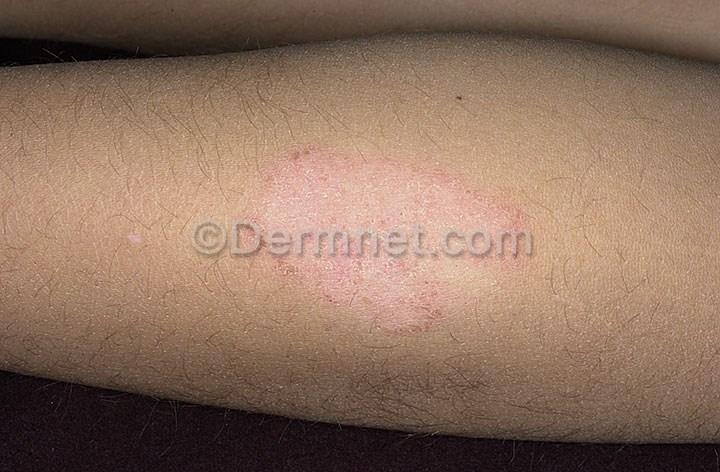Eczema: (203, 143, 565, 226), (249, 254, 493, 341)
